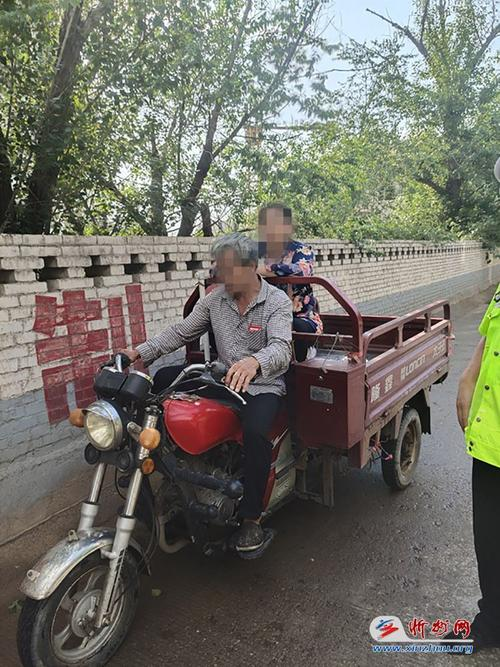driver: (165, 233, 288, 554)
overloading: (12, 201, 448, 667)
passenger: (247, 205, 326, 364)
